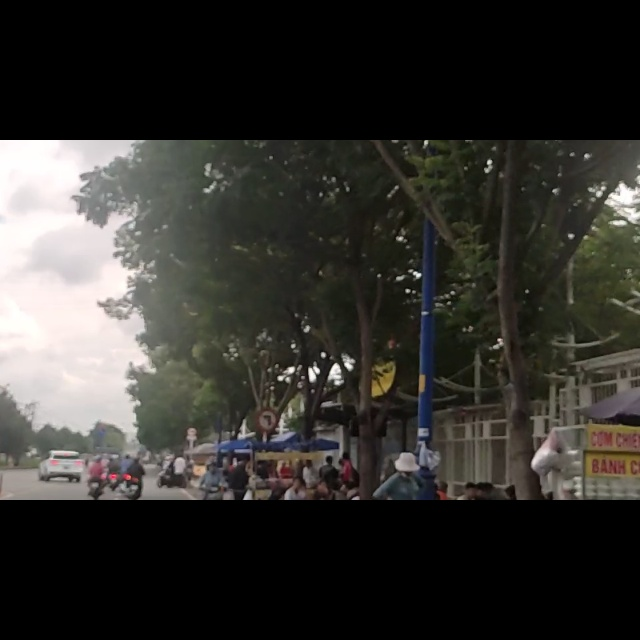bien_cam: (256, 479, 278, 518)
